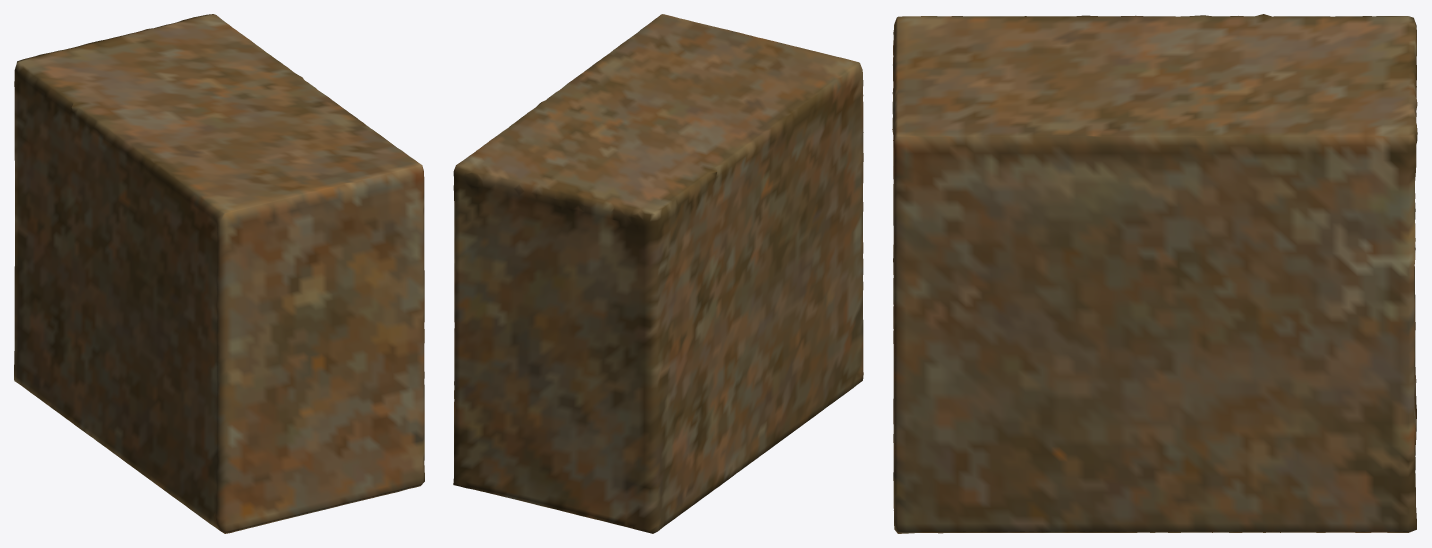
The model's file is an opennable storage furniture.obj.
3 renders of one model, left to right at view 1: azimuth 30°, elevation 25°; view 2: azimuth 150°, elevation 25°; view 3: azimuth 270°, elevation 25°, orthographic. The views are drawn at different scales.
Bounding box in the file's own units: 0.564 × 0.8418 × 0.9996.
